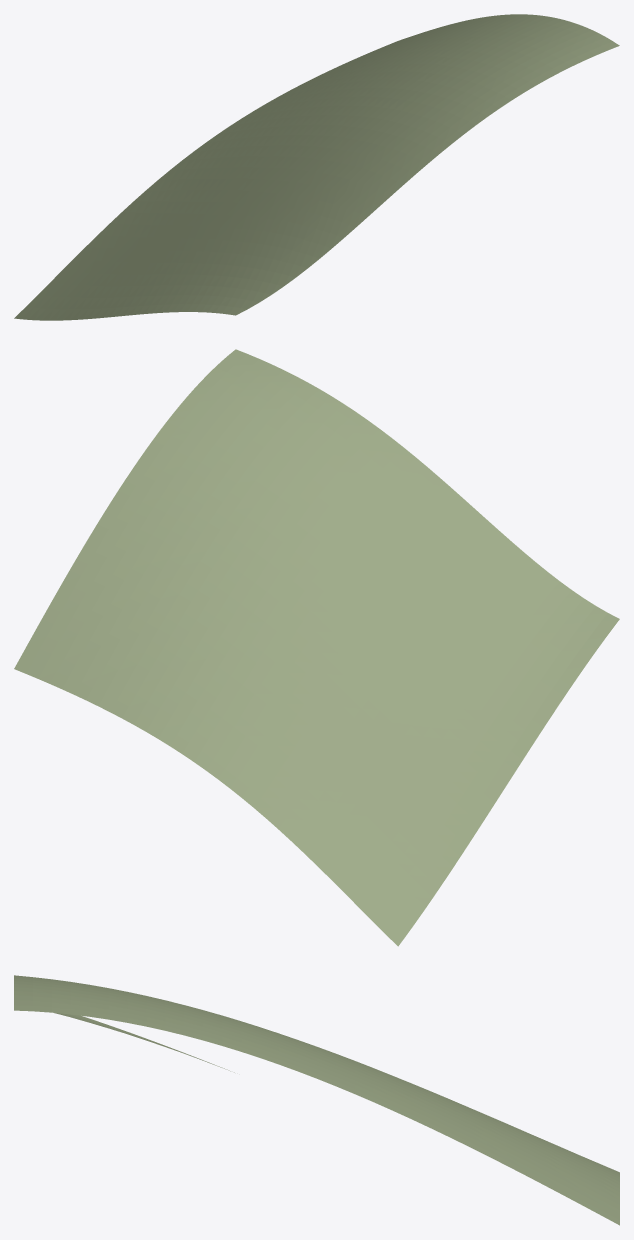
File: expanse-16-2.glb
3 renders of one model, top to bottom at view 1: azimuth 30°, elevation 25°; view 2: azimuth 150°, elevation 25°; view 3: azimuth 270°, elevation 25°, orthographic. The views are drawn at different scales.
Parts seen in each view (by area): view 1: expanse-16-2; view 2: expanse-16-2; view 3: expanse-16-2.
Boxes of the visible parts, left/top/right/bottom form: expanse-16-2: left=14, top=14, right=619, bottom=320; expanse-16-2: left=14, top=349, right=619, bottom=946; expanse-16-2: left=14, top=975, right=619, bottom=1225.
Size of the model in its own units: 256 by 217 by 256.
